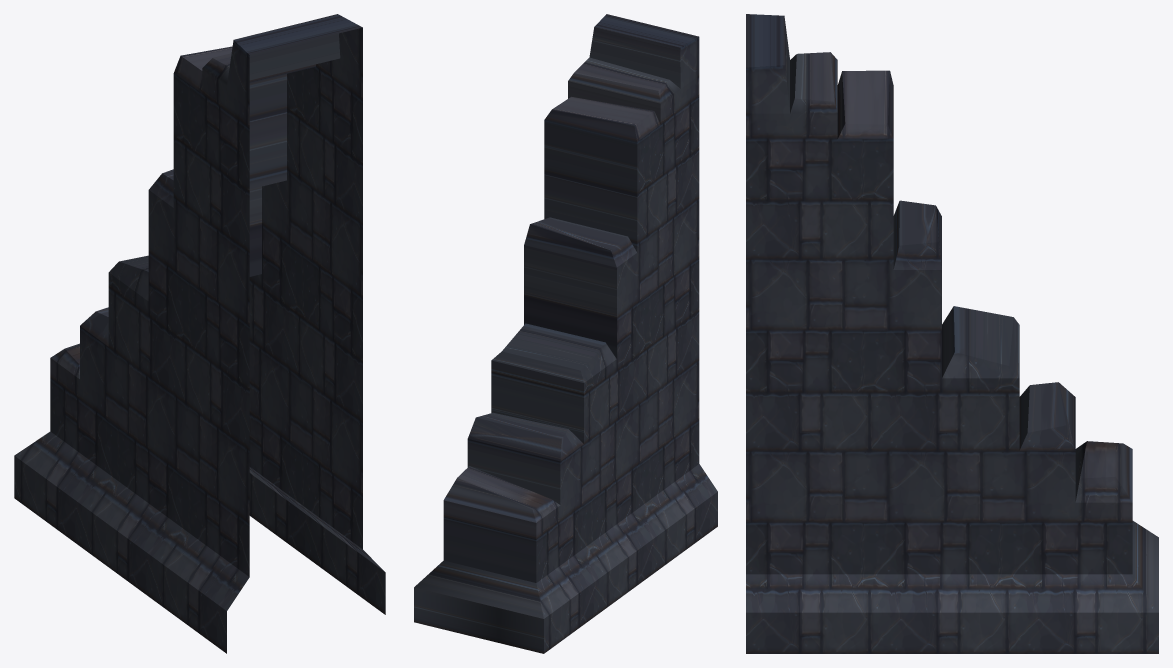
The model's file is Ruins_Wall_005.fbx.
3 renders of one model, left to right at view 1: azimuth 30°, elevation 25°; view 2: azimuth 150°, elevation 25°; view 3: azimuth 270°, elevation 25°, orthographic. The views are drawn at different scales.
Visible parts, largest first — view 1: Ruins_Wall_005; view 2: Ruins_Wall_005; view 3: Ruins_Wall_005.
Boxes of the visible parts, x1=… form: Ruins_Wall_005: x1=14, y1=14, x2=385, y2=653; Ruins_Wall_005: x1=414, y1=14, x2=717, y2=653; Ruins_Wall_005: x1=746, y1=14, x2=1158, y2=653.
Bounding box in the file's own units: 1.4 × 5 × 3.25.
Materials: 1 (1 with a texture image).
